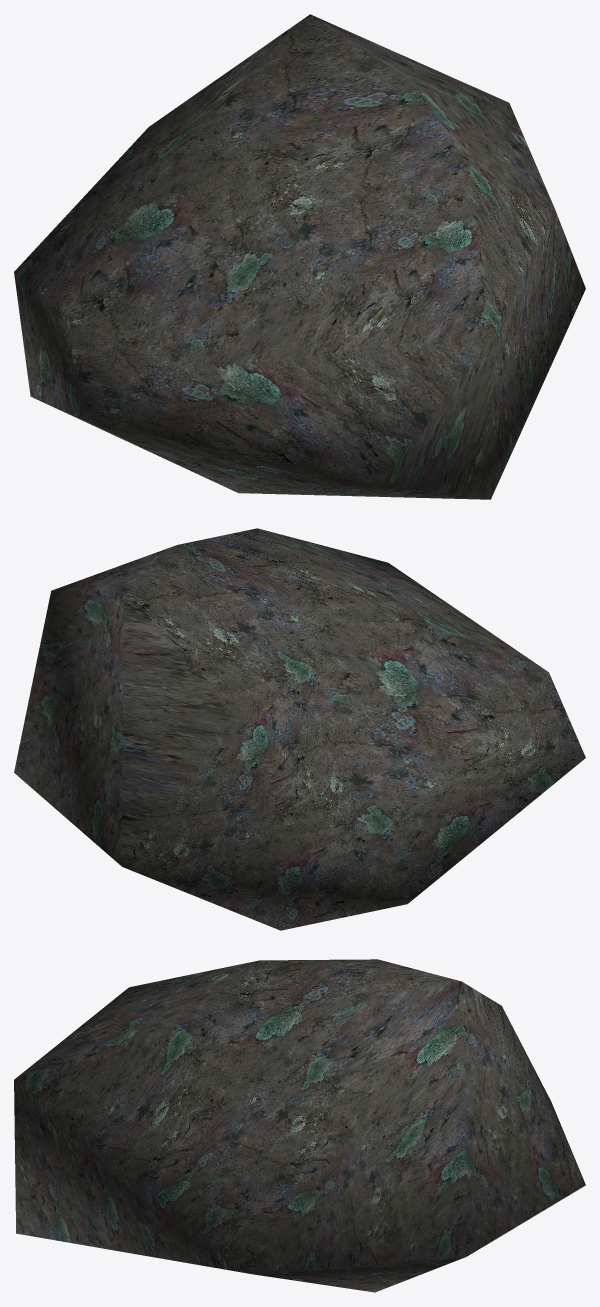
Rendered from rock_forestriverrock_sm_l1.fbx.
The picture shows the model from 3 angles, top to bottom: view 1: azimuth 30°, elevation 25°; view 2: azimuth 150°, elevation 25°; view 3: azimuth 270°, elevation 25°; orthographic projection. The views are drawn at different scales.
Visible parts, largest first — view 1: mesh_node; view 2: mesh_node; view 3: mesh_node.
Part boxes in pixels (bbox=[...]): mesh_node: bbox=[14, 14, 585, 499]; mesh_node: bbox=[14, 528, 585, 930]; mesh_node: bbox=[14, 959, 585, 1292].
Size of the model in its own units: 0.6042 by 0.3783 by 0.599.
Materials: 1 (1 with a texture image).
